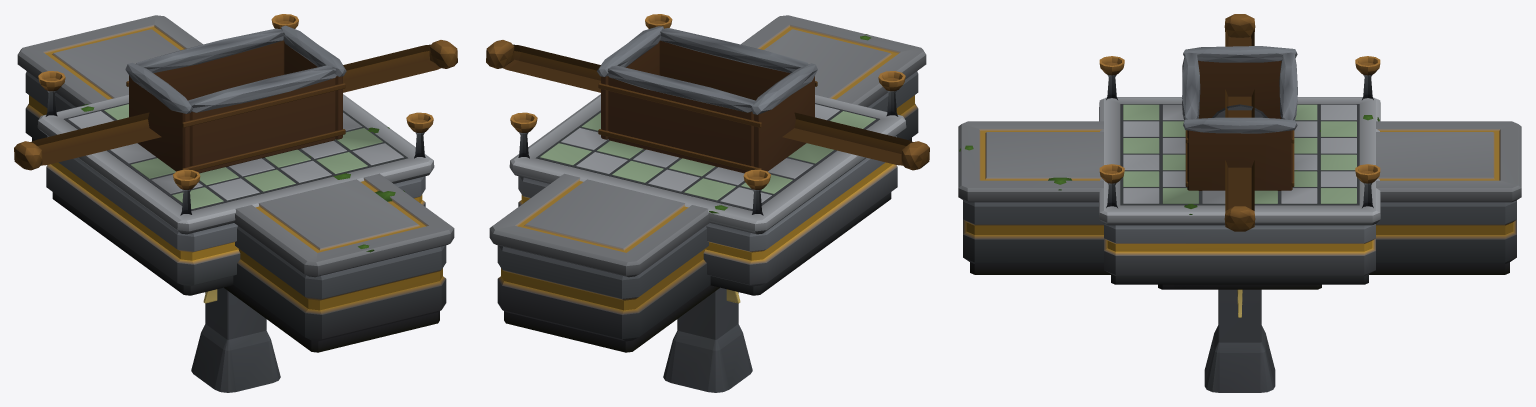
Rendered from temple-1-B5ajtTgM.glb.
3 views of the same model, side by side, from view 1: azimuth 30°, elevation 25°; view 2: azimuth 150°, elevation 25°; view 3: azimuth 270°, elevation 25° (orthographic). The views are drawn at different scales.
Visible parts, largest first — view 1: block_7x2x24#0, pad_12x2x12#0, hopper_6x3#0, mount_9.7#0, support_0_square#0; view 2: block_7x2x24#0, pad_12x2x12#0, hopper_6x3#0, mount_9.7#0, support_0_square#0; view 3: block_7x2x24#0, pad_12x2x12#0, hopper_6x3#0, support_0_square#0, mount_9.7#0, block_10x2x7#0.
Boxes of the visible parts, bbox=[...] form: block_7x2x24#0: bbox=[17, 15, 454, 352]; pad_12x2x12#0: bbox=[37, 14, 434, 295]; hopper_6x3#0: bbox=[125, 25, 346, 173]; mount_9.7#0: bbox=[14, 40, 457, 170]; support_0_square#0: bbox=[191, 287, 280, 392]; block_7x2x24#0: bbox=[489, 15, 926, 352]; pad_12x2x12#0: bbox=[509, 14, 906, 295]; hopper_6x3#0: bbox=[597, 26, 817, 173]; mount_9.7#0: bbox=[486, 40, 929, 170]; support_0_square#0: bbox=[663, 287, 752, 392]; block_7x2x24#0: bbox=[958, 121, 1521, 274]; pad_12x2x12#0: bbox=[1099, 56, 1380, 284]; hopper_6x3#0: bbox=[1182, 46, 1297, 190]; support_0_square#0: bbox=[1204, 289, 1275, 392]; mount_9.7#0: bbox=[1224, 14, 1255, 231]; block_10x2x7#0: bbox=[1174, 284, 1305, 289].
Size of the model in its own units: 20.3 by 13.86 by 24.
